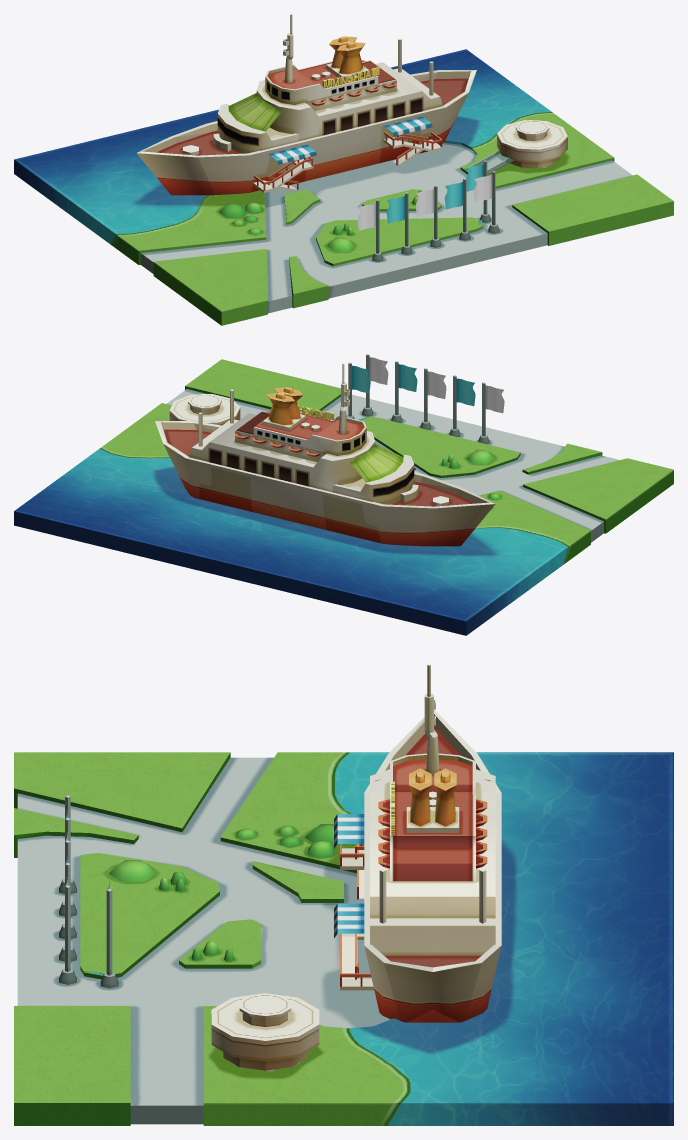
Rendered from lunchuan.FBX.
3 renders of one model, top to bottom at view 1: azimuth 30°, elevation 25°; view 2: azimuth 150°, elevation 25°; view 3: azimuth 270°, elevation 25°, orthographic. The views are drawn at different scales.
Visible parts, largest first — view 1: lunchuan; view 2: lunchuan; view 3: lunchuan.
Part boxes in pixels (x1,y1,x2,y2): lunchuan: (14, 14, 673, 325); lunchuan: (14, 354, 673, 635); lunchuan: (14, 664, 673, 1125).
Bounding box in the file's own units: 3433 × 1211 × 2730.
Materials: 1 (1 with a texture image).
